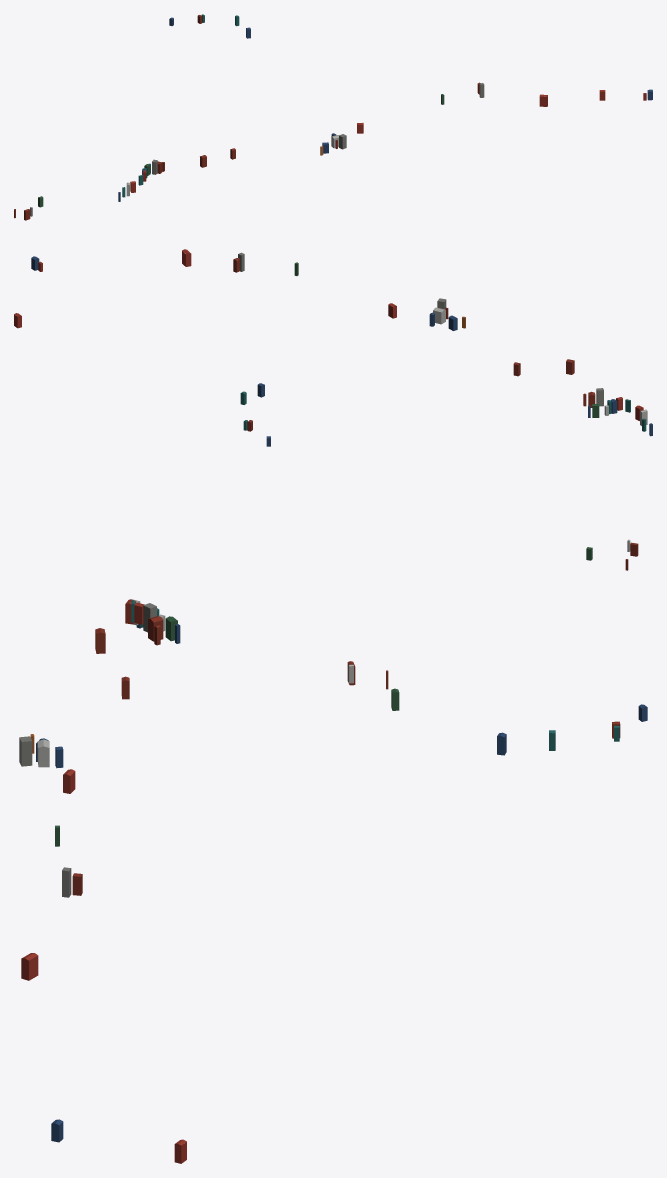
File: near-15-27351-14871.7d6b6863.glb
3 renders of one model, top to bottom at view 1: azimuth 30°, elevation 25°; view 2: azimuth 150°, elevation 25°; view 3: azimuth 270°, elevation 25°, orthographic. The views are drawn at different scales.
Size of the model in its own units: 1094 by 202 by 535.
